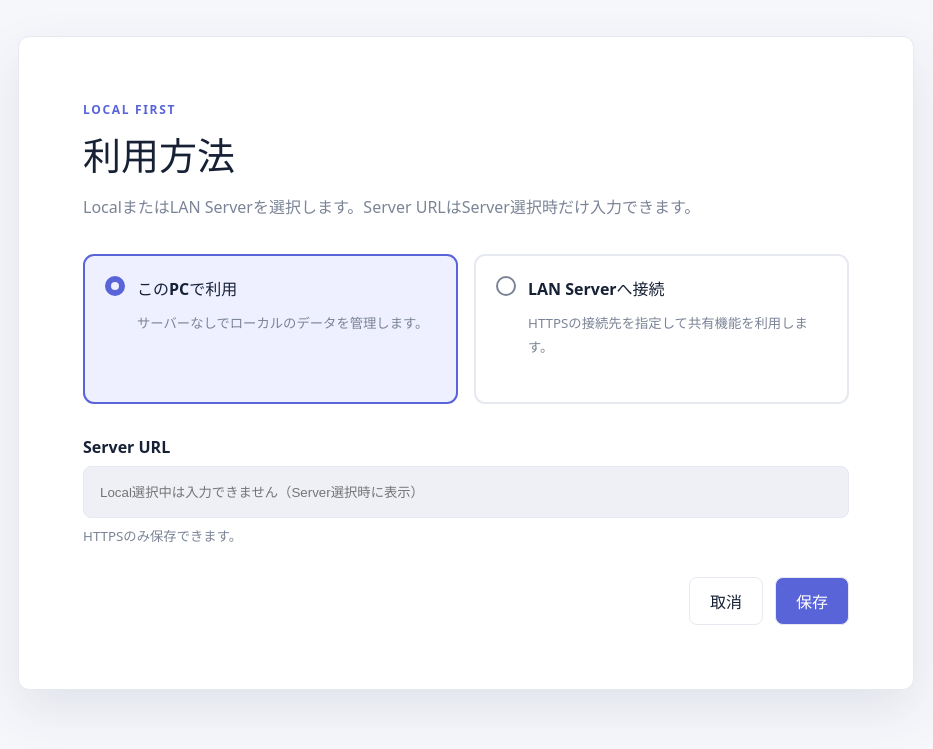
Test: StartupExperience › rejects a non-HTTPS Server URL before saving
Click the radio button labelled "LAN Serverへ接続 HTTPSの接続先を指定して共有機能を利用します。". click: (662, 329)
box: [474,254,849,404]
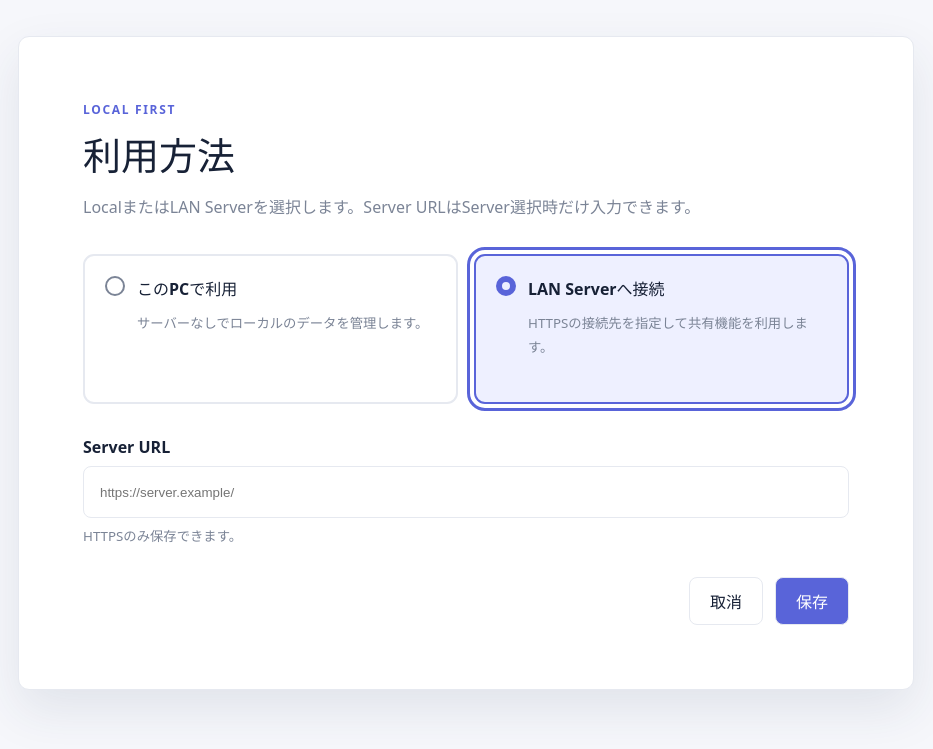
Type "http://server/" into the field labelled "Server URL". click: (466, 492)
box: [83,466,849,518]
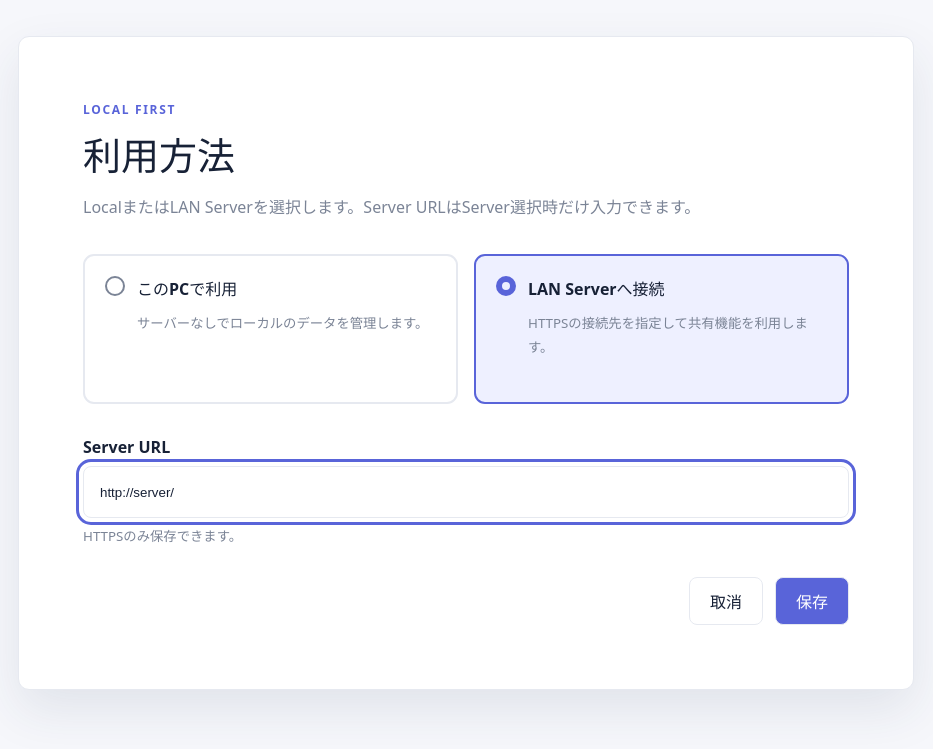
Click the button "保存". click: (812, 601)
box: [775,577,849,625]
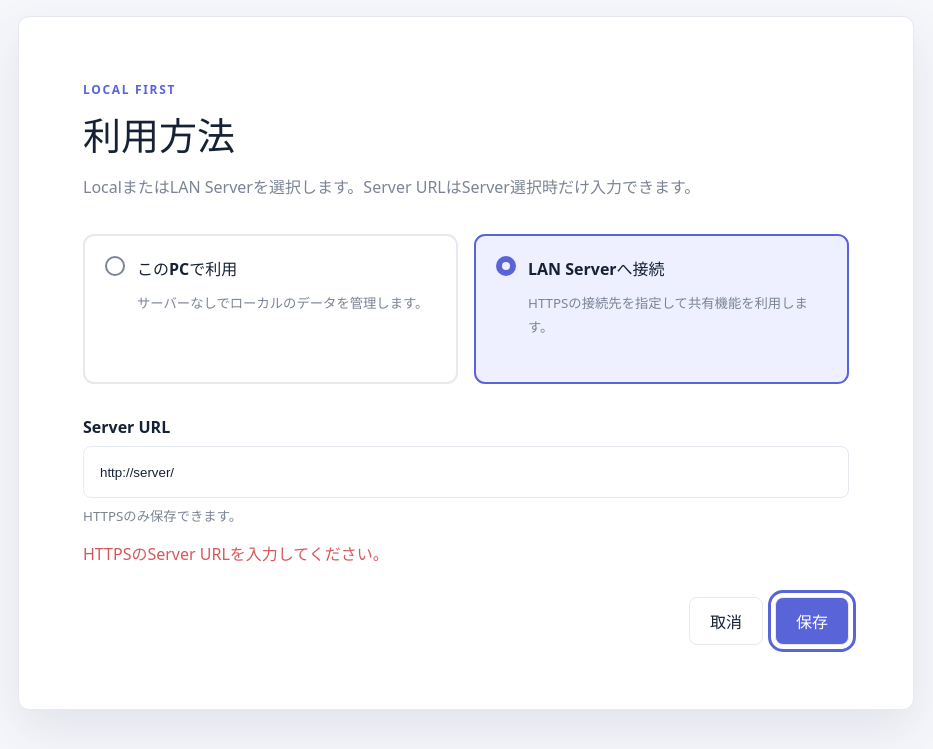
Expected: the message shows "HTTPS", [83,543,389,565]
